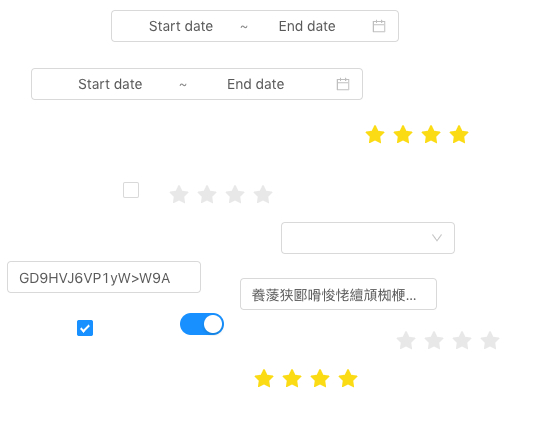Checkbox: (77, 317, 93, 338), (123, 179, 139, 200)
Input: (240, 278, 437, 310), (7, 261, 201, 293)
RangePicker: (31, 68, 528, 100), (111, 10, 399, 42)
Rate: (169, 178, 289, 210), (365, 118, 485, 150), (254, 362, 374, 394), (396, 324, 516, 356)
Select: (281, 222, 455, 254)
Switch: (180, 312, 224, 336)
